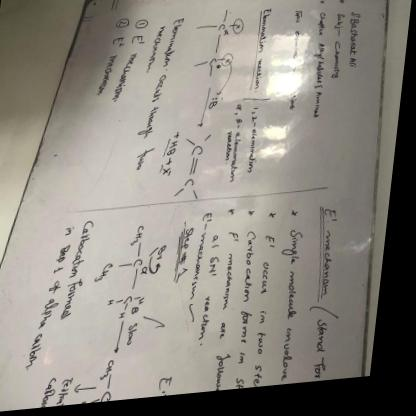Handwritten text: (277, 228, 317, 390), (239, 230, 267, 376), (306, 13, 334, 132), (284, 6, 310, 124), (259, 265, 284, 364), (253, 7, 277, 97), (347, 16, 366, 80), (331, 45, 348, 88)
Whiteboard: (0, 0, 386, 413)
